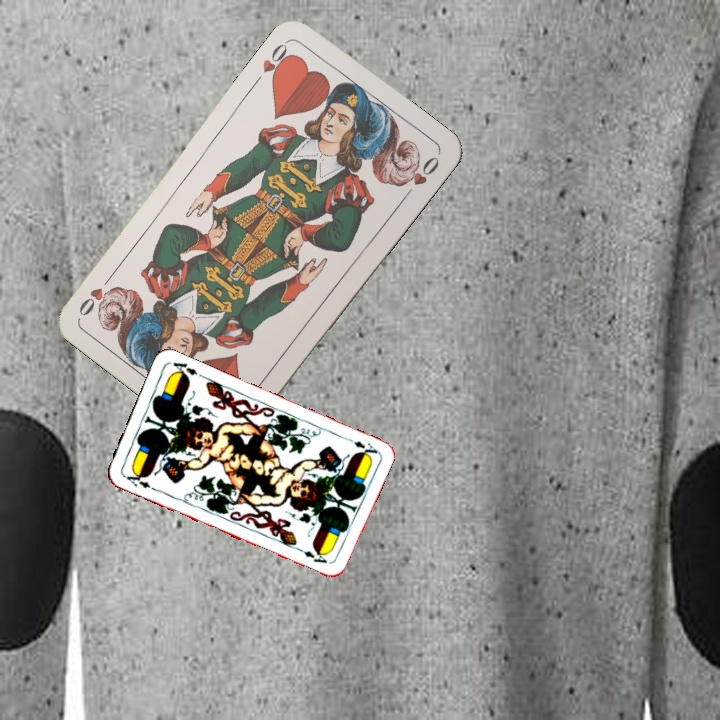EA: (341, 433, 380, 460), (120, 467, 158, 493)
HO: (258, 36, 296, 86)
